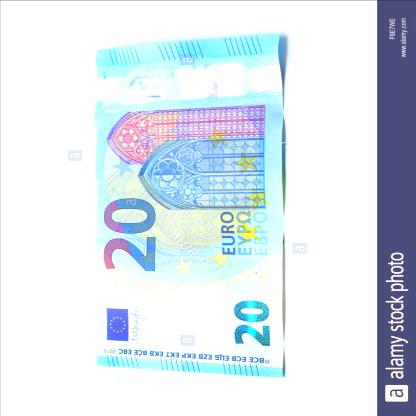euro_banknote: (18, 112, 364, 300)
